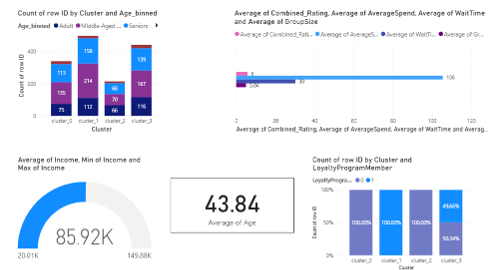

What the dashboard file says about the page in this screenshot:
{"tool":"powerbi","page":{"name":"Page 1","canvas":[1280,720],"ordinal":0},"visuals":[{"type":"columnChart","fields":{"Category":["clustered_clean_data.Cluster"],"Y":["CountNonNull(clustered_clean_data.row ID)"],"Series":["clustered_clean_data.Age_binned"]},"box":[148.2,43.9,317,270.3],"z":0},{"type":"clusteredBarChart","fields":{"Y":["Avg(clustered_clean_data.Combined_Rating)","Avg(clustered_clean_data.AverageSpend)","Avg(clustered_clean_data.WaitTime)","Avg(clustered_clean_data.GroupSize)"]},"box":[575,45,575,270],"z":1000},{"type":"gauge","fields":{"MinValue":["Min(clustered_clean_data.Income)"],"MaxValue":["Max(clustered_clean_data.Income)1"],"Y":["Avg(clustered_clean_data.Income)2"]},"box":[148.2,359.5,315.6,270.3],"z":2000},{"type":"card","fields":{"Values":["Avg(clustered_clean_data.Age)"]},"box":[480.3,403.4,317,135.8],"z":3000},{"type":"hundredPercentStackedColumnChart","fields":{"Category":["clustered_clean_data.Cluster"],"Series":["clustered_clean_data.LoyaltyProgramMember"],"Y":["CountNonNull(clustered_clean_data.row ID)"]},"box":[841.2,360.9,382.8,270.3],"z":4000}]}

Visuals, with their boxes on the page's 1280x720 design canvas (x1, y1, x2, y2). These are canvas units, not pixel positions in the 503x270 screenshot, which may show the page scaled, cropped or inside an application window:
columnChart - clustered_clean_data.Cluster x CountNonNull(clustered_clean_data.row ID): <bbox>148, 44, 465, 314</bbox>
clusteredBarChart - Avg(clustered_clean_data.Combined_Rating) x Avg(clustered_clean_data.AverageSpend): <bbox>575, 45, 1150, 315</bbox>
gauge - Min(clustered_clean_data.Income) x Max(clustered_clean_data.Income)1: <bbox>148, 360, 464, 630</bbox>
card - Avg(clustered_clean_data.Age): <bbox>480, 403, 797, 539</bbox>
hundredPercentStackedColumnChart - clustered_clean_data.Cluster x clustered_clean_data.LoyaltyProgramMember: <bbox>841, 361, 1224, 631</bbox>
